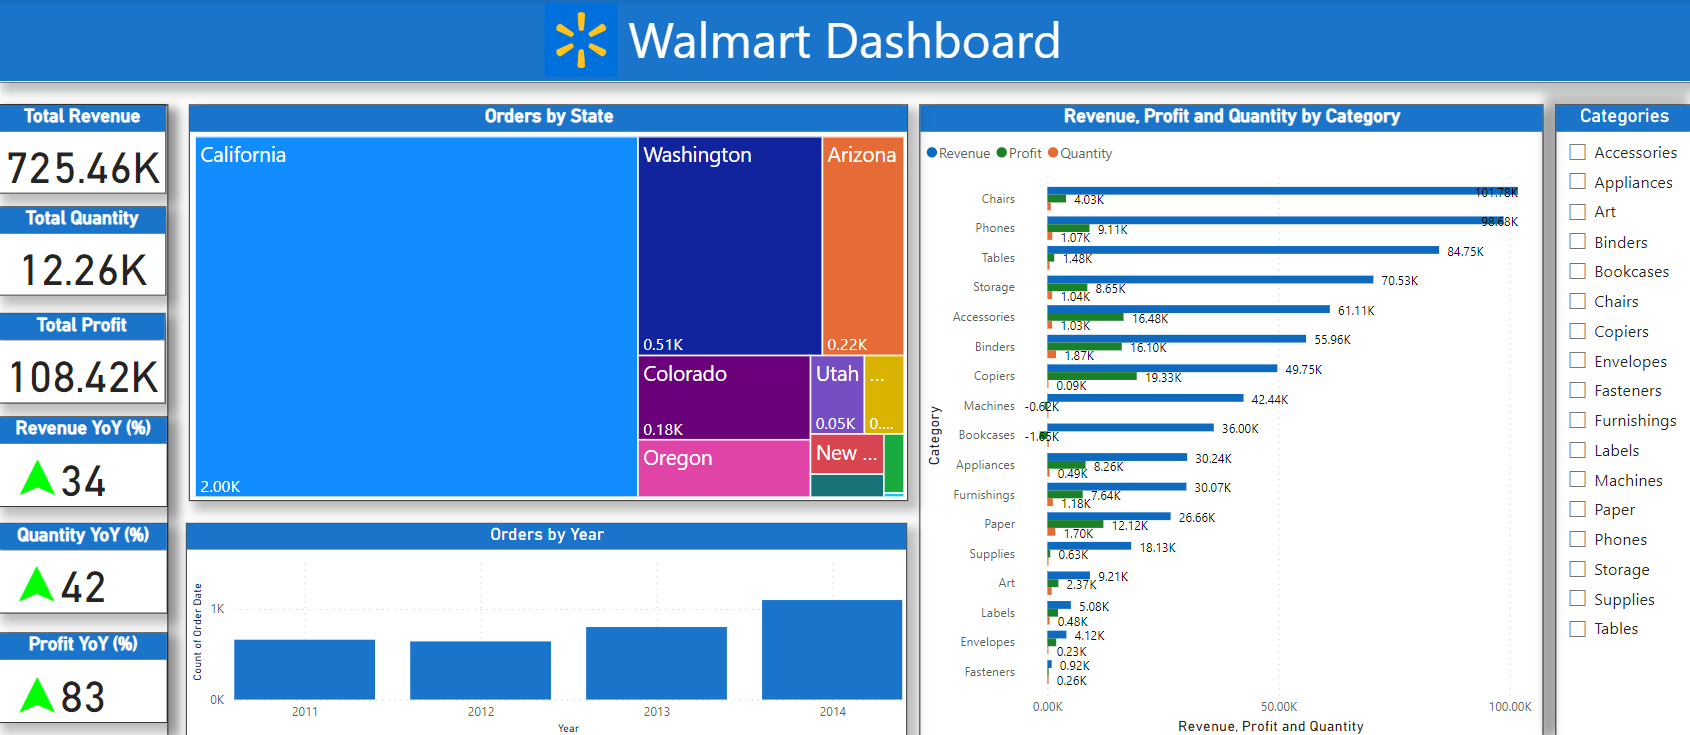

This screenshot's page, from the dashboard's own definition file:
{"tool":"powerbi","page":{"name":"Page 2","canvas":[1650,720],"ordinal":1},"visuals":[{"type":"textbox","box":[0,0,1650.3,81.8],"z":0},{"type":"slicer","title":"Categories","fields":{"Values":["Walmart (2).Category"]},"box":[1516.9,103.1,133.1,617.1],"z":1000},{"type":"clusteredBarChart","title":"Revenue, Profit and Quantity by Category","fields":{"Category":["Walmart (2).Category"],"Y":["Sum(Walmart (2).Sales)","Sum(Walmart (2).Profit)","Sum(Walmart (2).Quantity)"]},"box":[898.2,103.7,607.5,616.3],"z":2000},{"type":"treemap","title":"Orders by State","fields":{"Group":["Walmart (2).State"],"Values":["CountNonNull(Walmart (2).State)"]},"box":[186.3,103.1,700.3,385.9],"z":3000},{"type":"shape","box":[0,103.7,166.5,616.3],"z":4000},{"type":"card","title":"Total Revenue","fields":{"Values":["Sum(Walmart (2).Sales)"]},"box":[0,103.1,164.7,86.5],"z":5000},{"type":"card","title":"Total Profit","fields":{"Values":["Sum(Walmart (2).Profit)"]},"box":[0,306.2,163.8,87.8],"z":6000},{"type":"card","title":"Total Quantity","fields":{"Values":["Sum(Walmart (2).Quantity)"]},"box":[0,202.9,164.7,86.5],"z":7000},{"type":"image","box":[525.8,0,86.2,81.8],"z":8000},{"type":"card","title":"Revenue YoY (%)","fields":{"Values":["Walmart.Sales Percentage"]},"box":[0,407.6,165.8,87.8],"z":9000},{"type":"image","box":[15.6,444.7,46.8,44.9],"z":10000},{"type":"card","title":"Quantity YoY (%)","fields":{"Values":["Walmart.Quantity Percentage"]},"box":[0,511,165.8,87.8],"z":11000},{"type":"image","box":[7.8,548,62.4,44.9],"z":12000},{"type":"image","box":[5.9,655.3,66.3,44.9],"z":13000},{"type":"card","title":"Profit YoY (%)","fields":{"Values":["Walmart.Profit Percentage"]},"box":[0,618.3,165.8,87.8],"z":14000},{"type":"clusteredColumnChart","title":"Orders by Year","fields":{"Category":["Walmart.Order Date.Variation.Date Hierarchy.Year","Walmart.Order Date.Variation.Date Hierarchy.Quarter","Walmart.Order Date.Variation.Date Hierarchy.Month","Walmart.Order Date.Variation.Date Hierarchy.Day"],"Y":["CountNonNull(Walmart.Order Date)"]},"box":[184.6,510.6,701.9,209.6],"z":14001}]}

Visuals, with their boxes in screenshot pixels (x1, y1, x2, y2), scaled from the page's 1650x720 canvas onto the 1690x735 screenshot:
textbox: select_region(0, 0, 1689, 84)
"Categories" slicer: select_region(1554, 105, 1689, 734)
"Revenue, Profit and Quantity by Category" clusteredBarChart: select_region(920, 106, 1542, 734)
"Orders by State" treemap: select_region(191, 105, 908, 499)
shape: select_region(0, 106, 171, 734)
"Total Revenue" card: select_region(0, 105, 169, 194)
"Total Profit" card: select_region(0, 313, 168, 402)
"Total Quantity" card: select_region(0, 207, 169, 295)
image: select_region(539, 0, 627, 84)
"Revenue YoY (%)" card: select_region(0, 416, 170, 506)
image: select_region(16, 454, 64, 500)
"Quantity YoY (%)" card: select_region(0, 522, 170, 611)
image: select_region(8, 559, 72, 605)
image: select_region(6, 669, 74, 715)
"Profit YoY (%)" card: select_region(0, 631, 170, 721)
"Orders by Year" clusteredColumnChart: select_region(189, 521, 908, 734)
